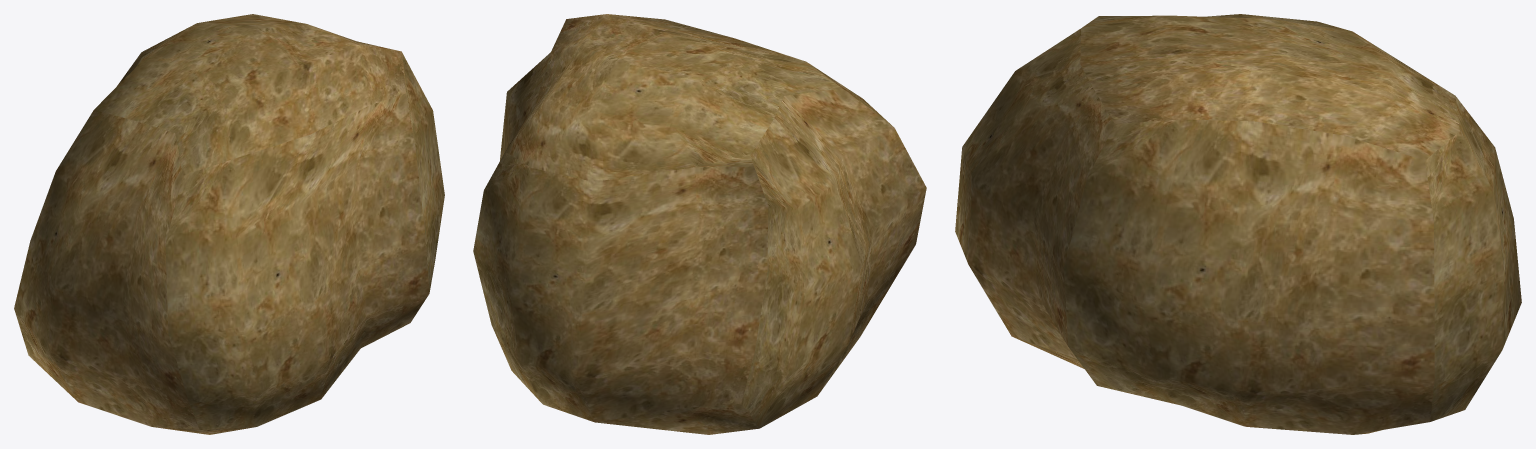
The model's file is food.glb.
3 views of the same model, side by side, from view 1: azimuth 30°, elevation 25°; view 2: azimuth 150°, elevation 25°; view 3: azimuth 270°, elevation 25° (orthographic). The views are drawn at different scales.
Visible parts, largest first — view 1: Box001; view 2: Box001; view 3: Box001.
Part boxes in pixels (left/top/right/bottom): Box001: left=14, top=14, right=444, bottom=434; Box001: left=473, top=14, right=926, bottom=434; Box001: left=955, top=14, right=1521, bottom=434.
Bounding box in the file's own units: 0.0318 × 0.0274 × 0.0354.
1 material, 1 textured.
